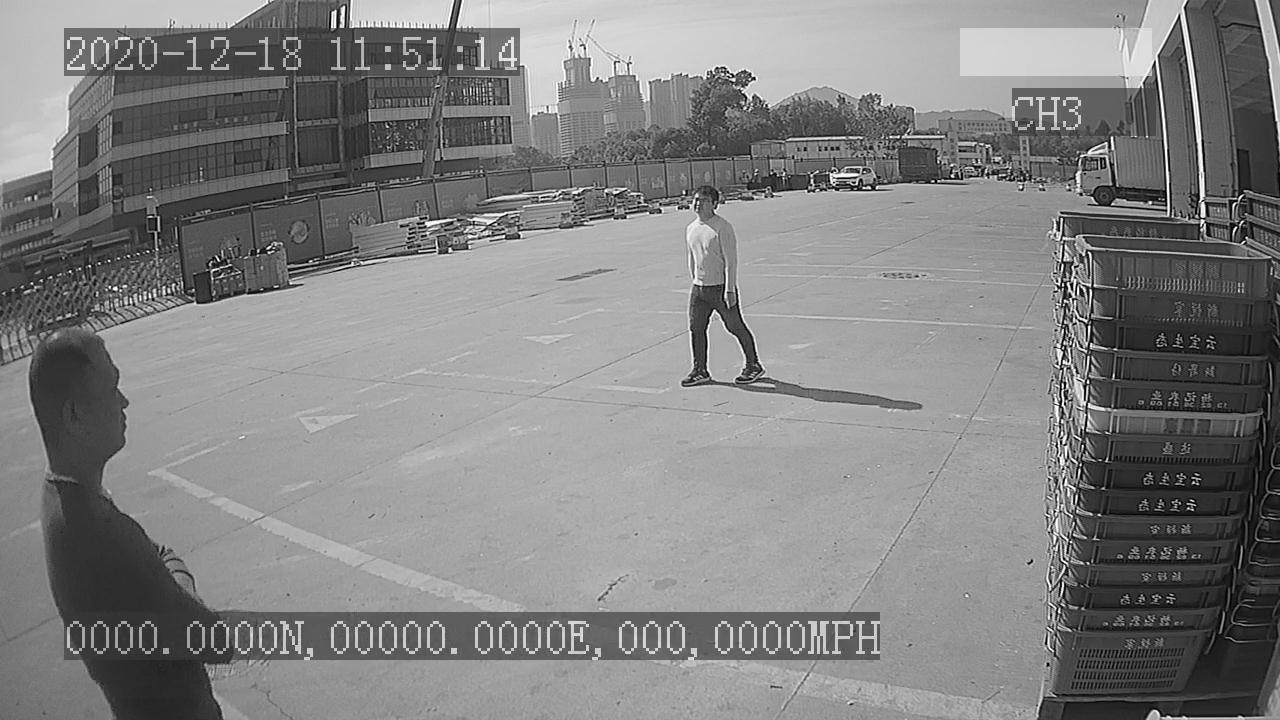person: (672, 185, 772, 390)
